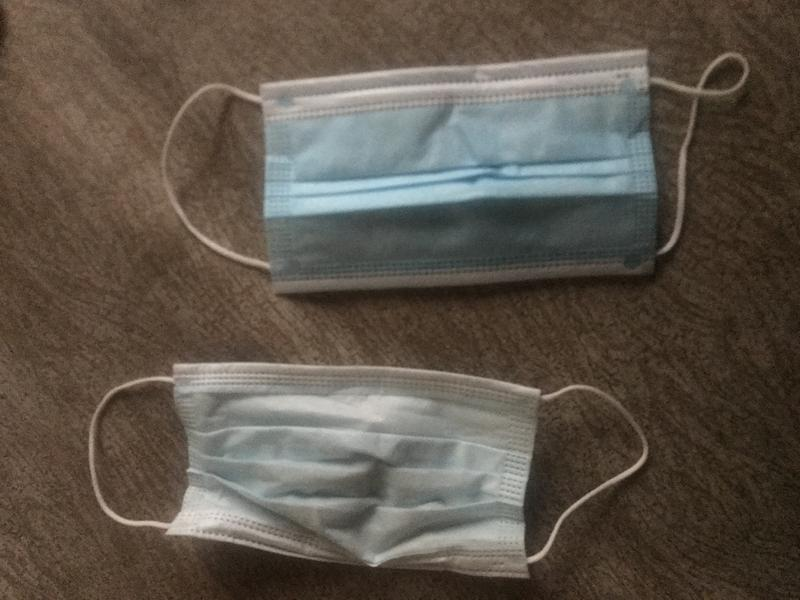medical_mask: (164, 50, 749, 292), (87, 360, 648, 580)
